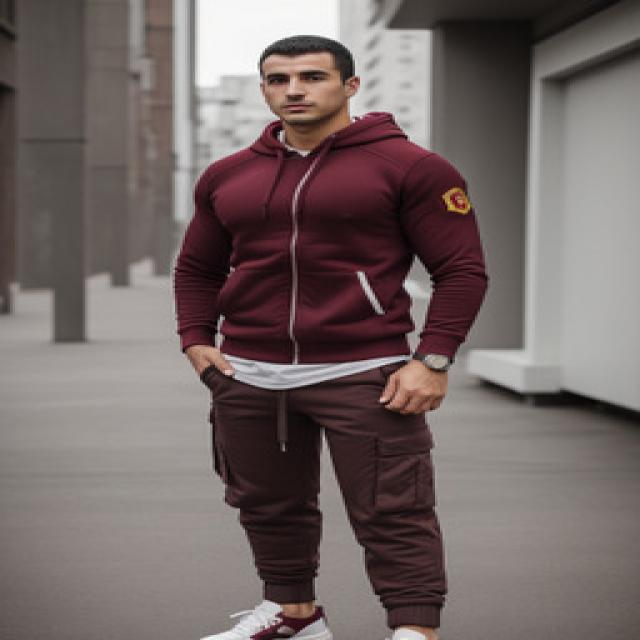Ai human 2: (143, 21, 492, 640)
